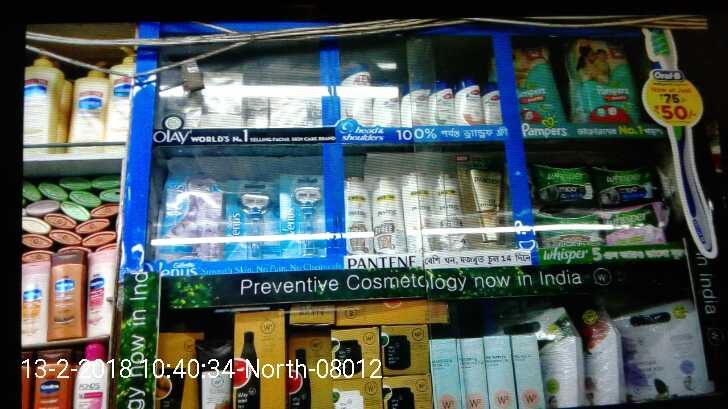venus: (160, 175, 215, 258), (228, 181, 274, 257), (280, 177, 322, 256)
